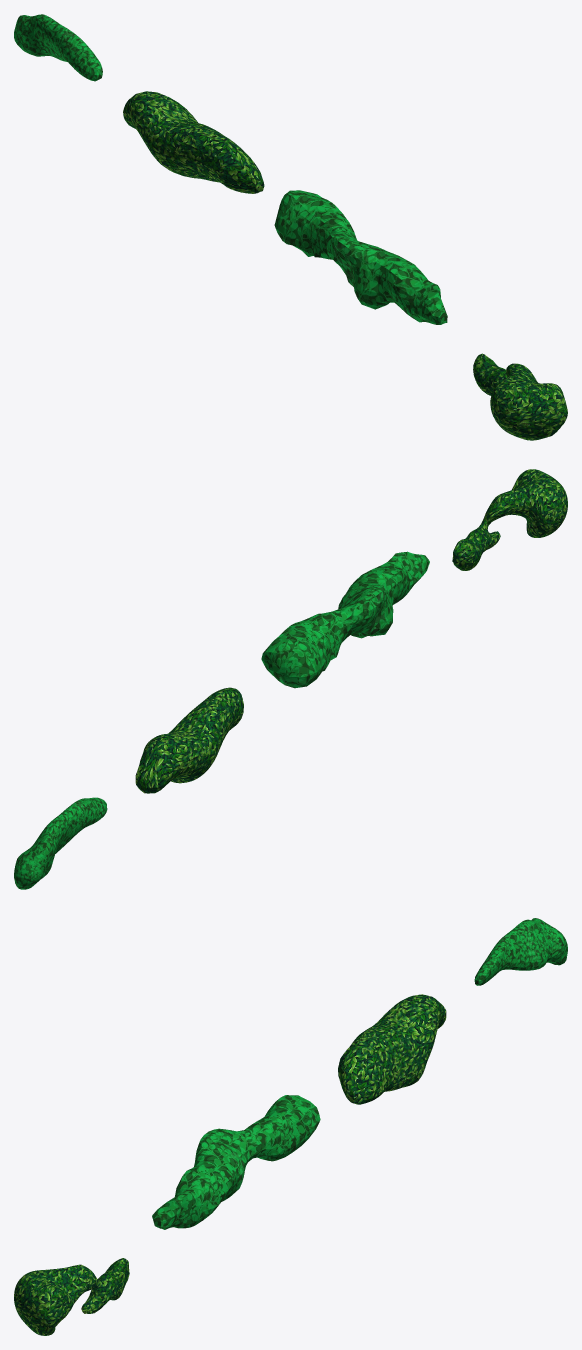
The model's file is grass on the wall.fbx.
The picture shows the model from 3 angles, top to bottom: view 1: azimuth 30°, elevation 25°; view 2: azimuth 150°, elevation 25°; view 3: azimuth 330°, elevation 25°; orthographic projection. The views are drawn at different scales.
Parts seen in each view (by area): view 1: Sphere_UV.001, Sphere, Sphere.001, Sphere_UV; view 2: Sphere_UV.001, Sphere, Sphere.001, Sphere_UV; view 3: Sphere_UV.001, Sphere, Sphere.001, Sphere_UV.
Part boxes in pixels (x1=…): Sphere_UV.001: x1=274, y1=190, x2=447, y2=324; Sphere: x1=123, y1=91, x2=264, y2=193; Sphere.001: x1=473, y1=353, x2=567, y2=440; Sphere_UV: x1=14, y1=14, x2=102, y2=81; Sphere_UV.001: x1=261, y1=551, x2=429, y2=688; Sphere: x1=135, y1=687, x2=243, y2=793; Sphere.001: x1=452, y1=469, x2=567, y2=570; Sphere_UV: x1=14, y1=797, x2=107, y2=889; Sphere_UV.001: x1=152, y1=1095, x2=320, y2=1229; Sphere: x1=338, y1=994, x2=446, y2=1104; Sphere.001: x1=14, y1=1258, x2=129, y2=1335; Sphere_UV: x1=474, y1=918, x2=567, y2=985.
Bounding box in the file's own units: 236 × 241 × 3186.
Materials: 2 (2 with a texture image).
